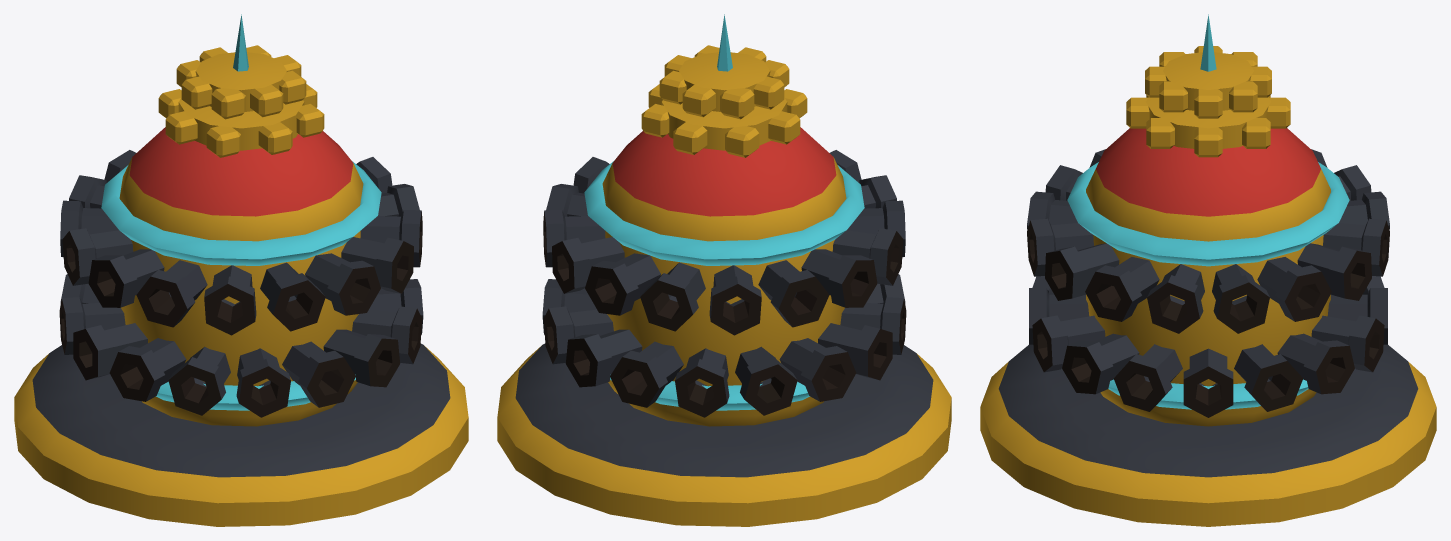
The picture shows the model from 3 angles, left to right: view 1: azimuth 30°, elevation 25°; view 2: azimuth 150°, elevation 25°; view 3: azimuth 270°, elevation 25°; orthographic projection.
Visible parts, largest first — view 1: tachinha_1_torreta, tachinha_0_base; view 2: tachinha_1_torreta, tachinha_0_base; view 3: tachinha_1_torreta, tachinha_0_base.
Boxes of the visible parts, x1,y1,x2,y2 form: tachinha_1_torreta: [59, 14, 423, 426]; tachinha_0_base: [14, 343, 468, 526]; tachinha_1_torreta: [542, 14, 906, 426]; tachinha_0_base: [497, 343, 951, 526]; tachinha_1_torreta: [1027, 14, 1389, 426]; tachinha_0_base: [980, 344, 1436, 526].
Bounding box in the file's own units: 0.8 × 0.81 × 0.8.
